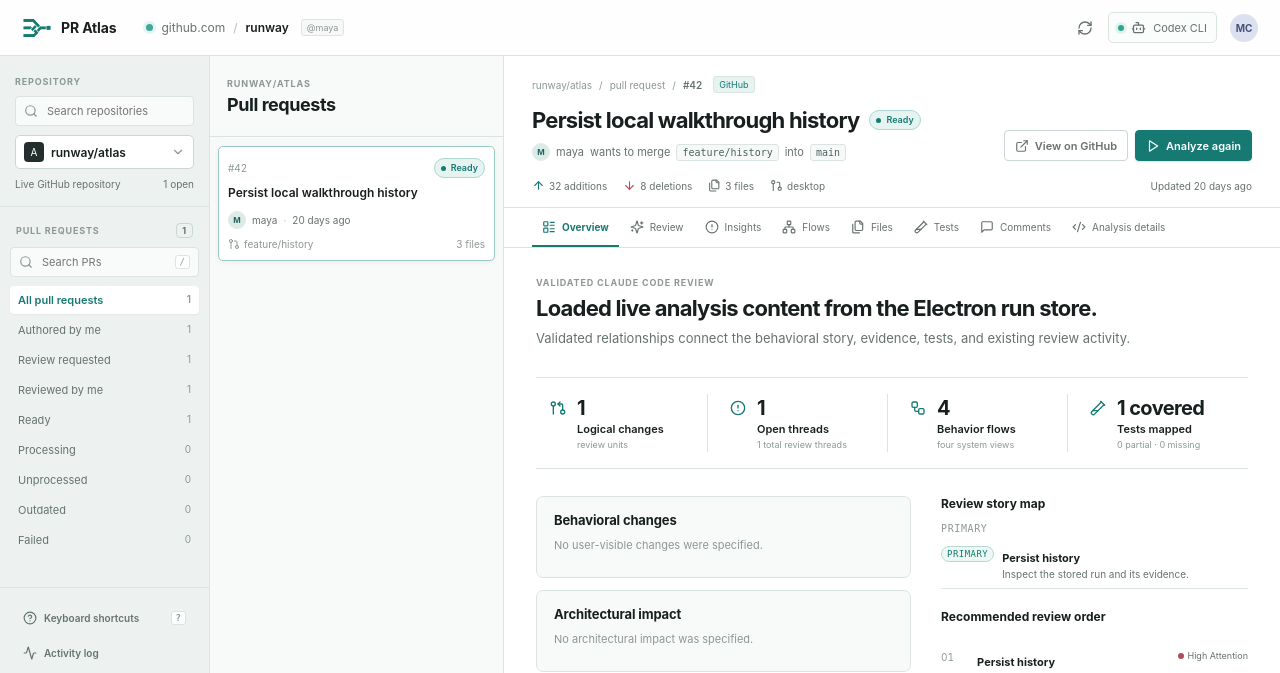
it: live Electron renderer contract › does not let an older comment read hide a GitHub-confirmed comment
This screenshot has width=1280, height=673.
Click the button "Comments".
click(1016, 228)  # box [970,208,1061,247]
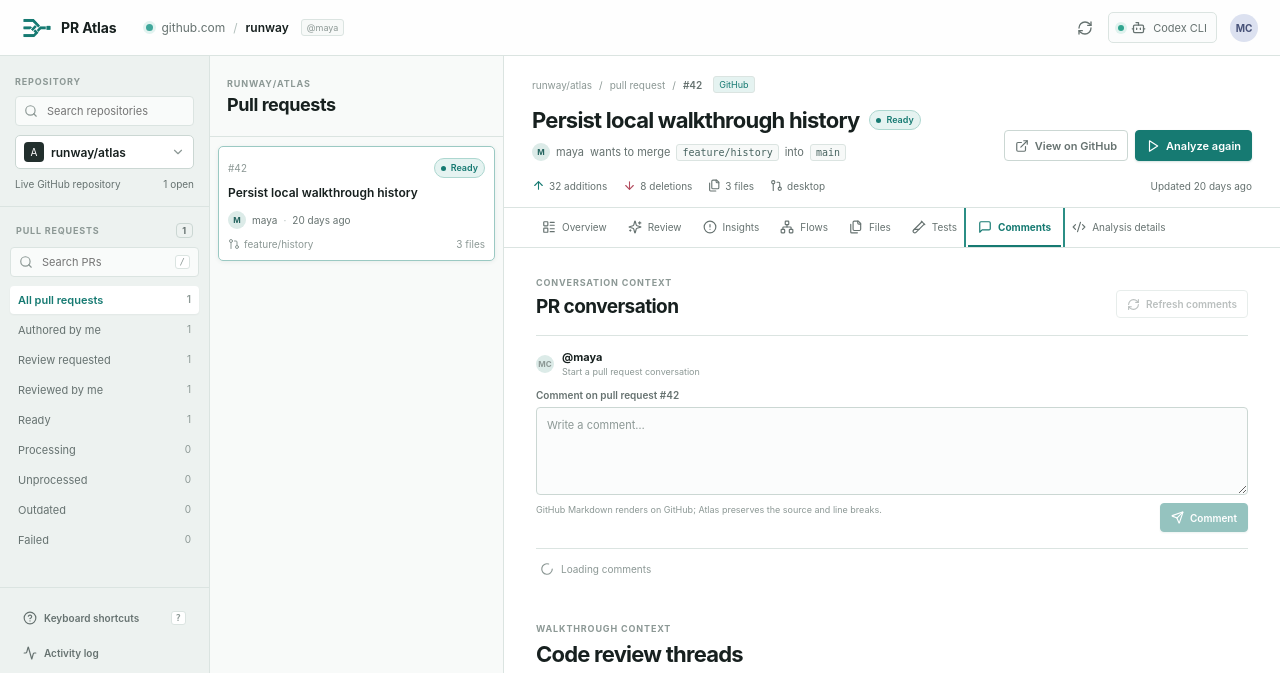
Type "I verified the local persistence flow from Atlas." into the text box labelled "Comment on pull request #42".
click(892, 451); type("I verified the local persistence flow from Atlas.")  # box [536,407,1248,495]
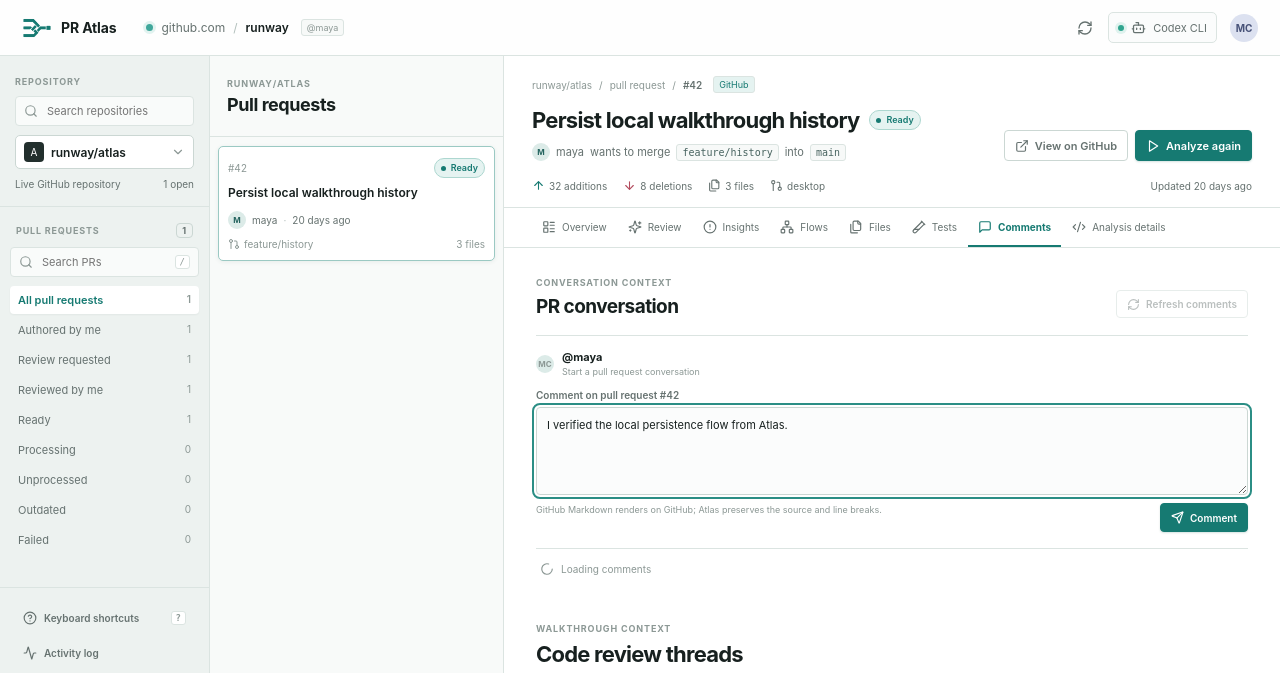
Click the button "Comment".
click(1204, 518)  # box [1160,503,1248,532]
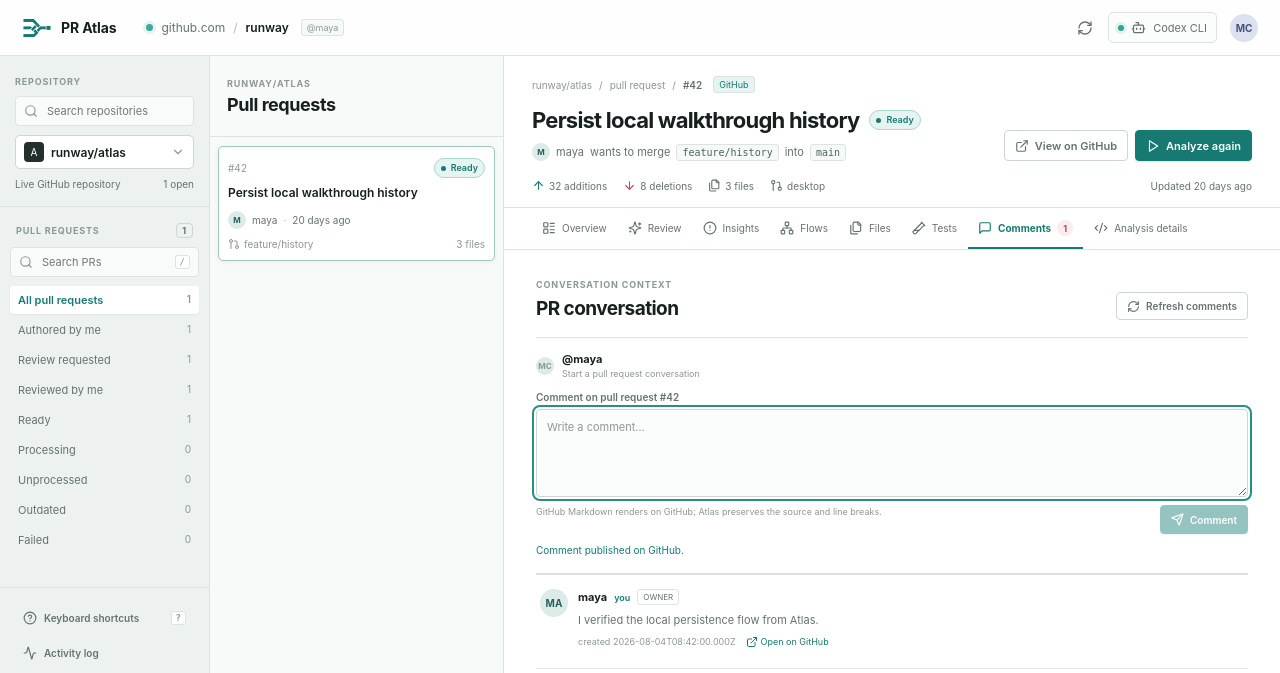
expect the text "I verified the local persistence flow from Atlas." is shown: met, box [578,613,819,627]
